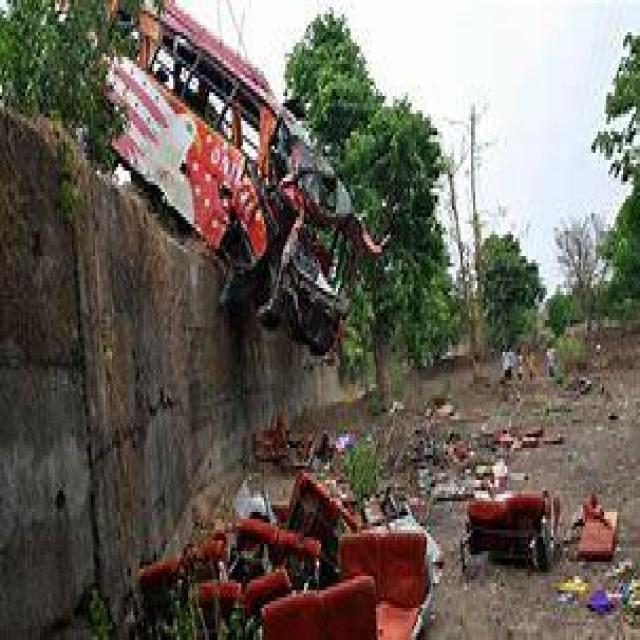Nguy hiểm: (84, 0, 572, 640)
